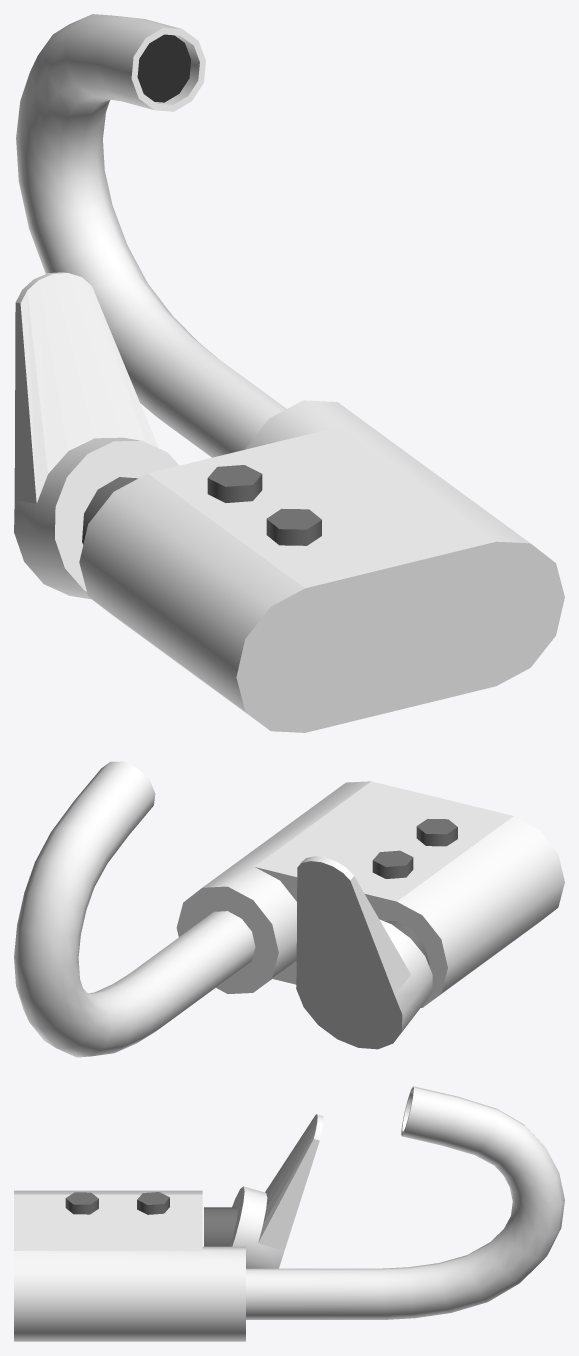
The model's file is Fit_ShuiLongTou_1X2_on.FBX.
3 renders of one model, top to bottom at view 1: azimuth 30°, elevation 25°; view 2: azimuth 150°, elevation 25°; view 3: azimuth 270°, elevation 25°, orthographic. The views are drawn at different scales.
Parts seen in each view (by area): view 1: Box001; view 2: Box001; view 3: Box001.
Part boxes in pixels (left/top/right/bottom): Box001: left=14, top=14, right=564, bottom=732; Box001: left=14, top=761, right=564, bottom=1057; Box001: left=14, top=1086, right=564, bottom=1341.
Size of the model in its own units: 1.05 by 1.31 by 2.53.
